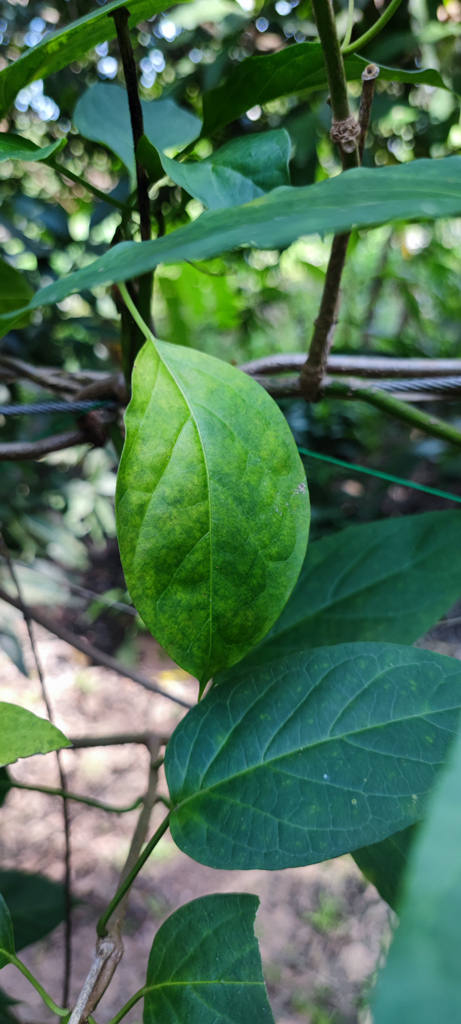Pepper yellow leaf: (120, 339, 309, 701)
